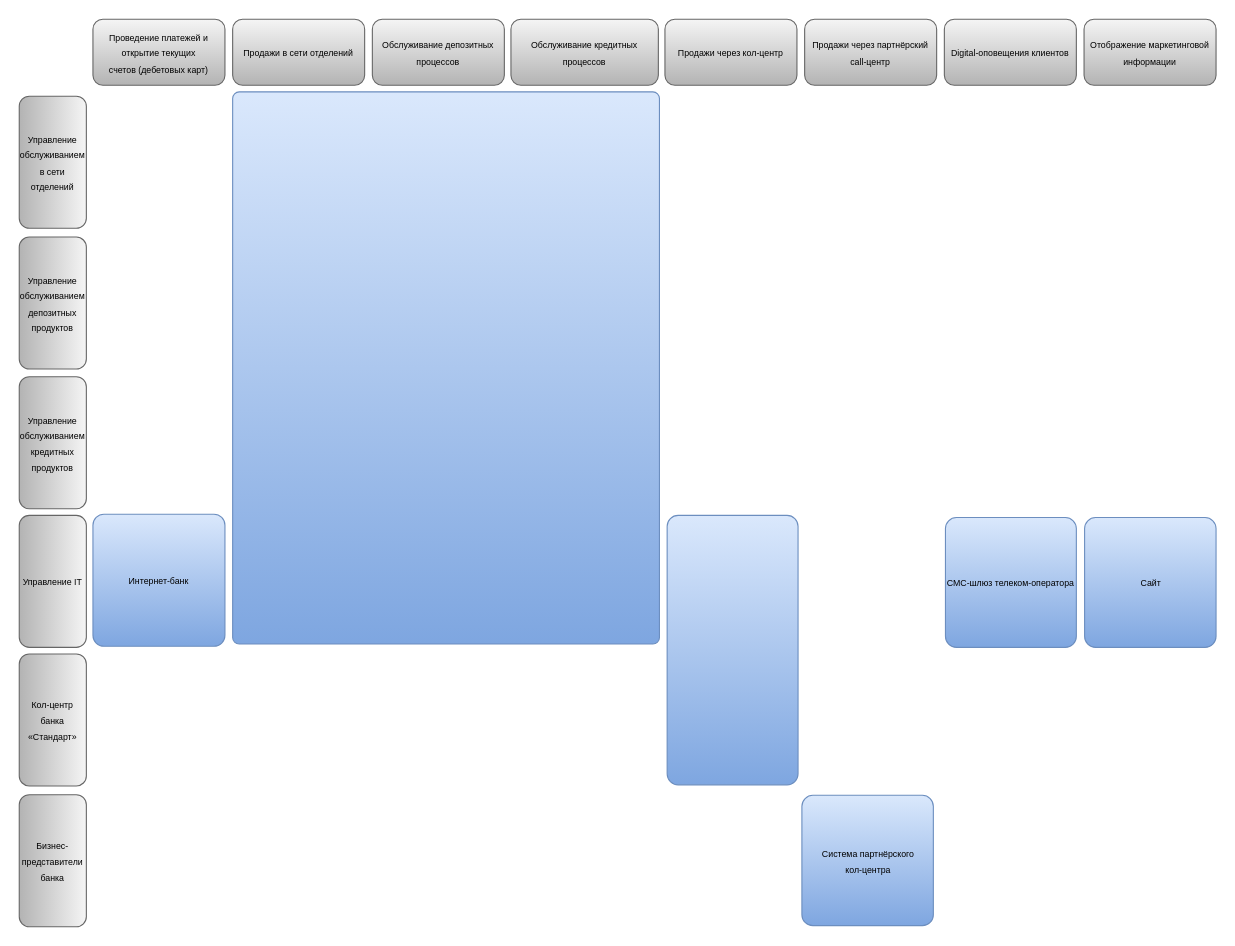
Image size: 1235x946. Some labels were removed from this diagram. The shapes that lost their labels are listed below. From the top down, each one's centre as x and y in pixels, then its label:
At (x=445, y=367): "Автоматизированная банковская система (АБС)".
At (x=732, y=649): "Система кол-центра".
